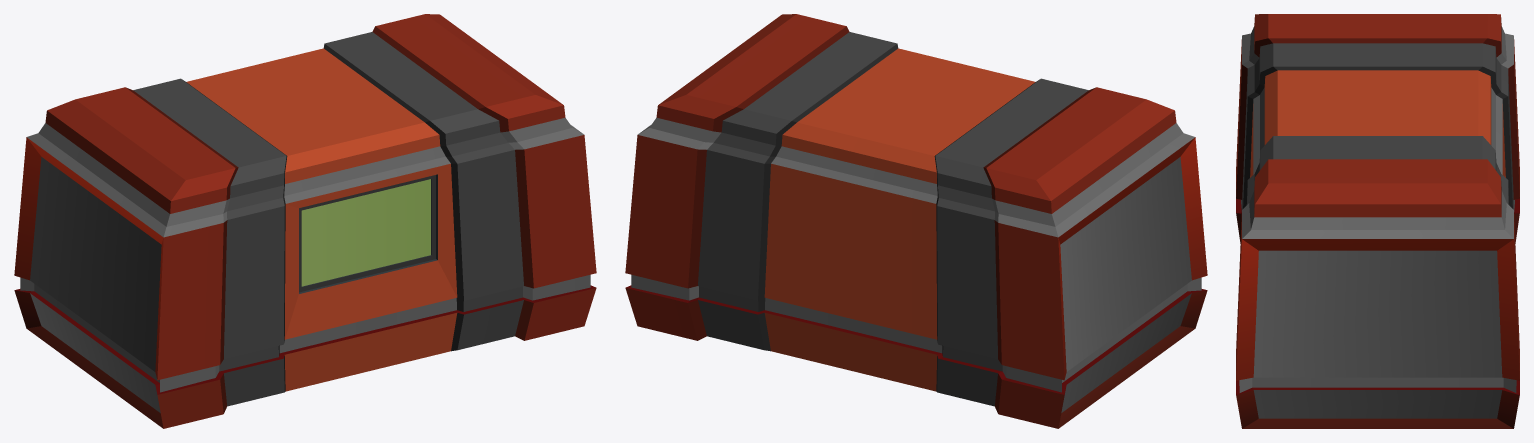
File: Future Med Crate Red.fbx
3 views of the same model, side by side, from view 1: azimuth 30°, elevation 25°; view 2: azimuth 150°, elevation 25°; view 3: azimuth 270°, elevation 25° (orthographic).
Parts seen in each view (by area): view 1: Future Med Crate Red; view 2: Future Med Crate Red; view 3: Future Med Crate Red.
Part boxes in pixels (x1,y1,x2,y2): Future Med Crate Red: [14, 14, 596, 428]; Future Med Crate Red: [625, 14, 1207, 428]; Future Med Crate Red: [1236, 14, 1519, 428].
Size of the model in its own units: 265 by 298 by 529.
Materials: 1 (1 with a texture image).
